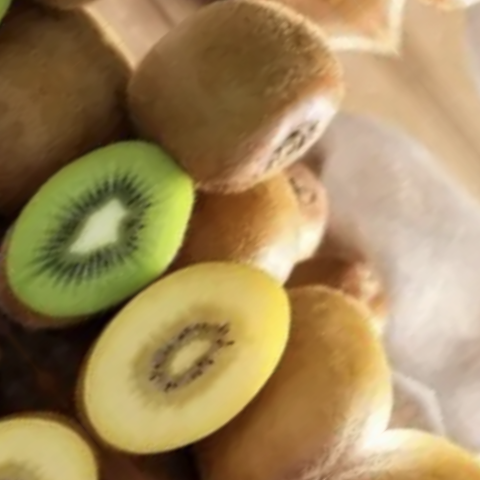kiwi: (102, 225, 463, 480), (98, 0, 389, 233)
